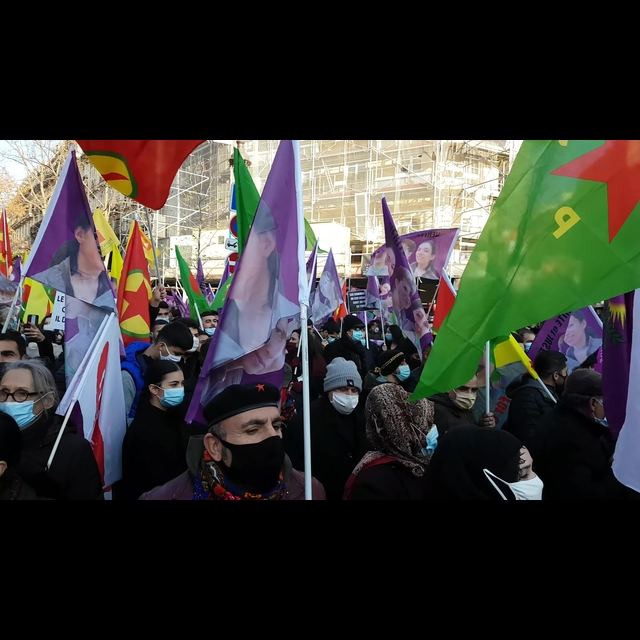PKK: (125, 228, 151, 339)
